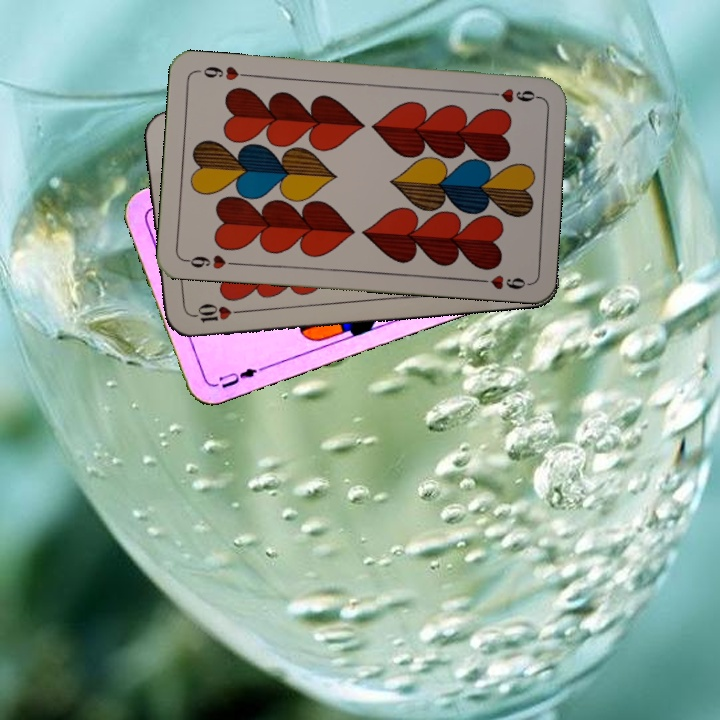EU: (210, 362, 267, 391)
H10: (186, 300, 245, 325)
H9: (483, 84, 542, 106), (181, 251, 240, 272)
